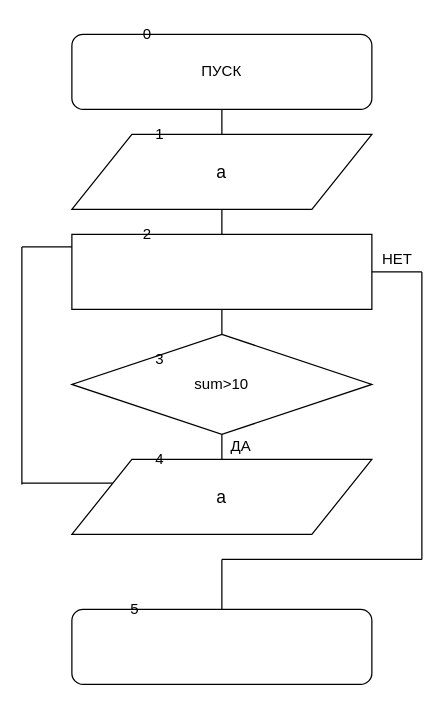
Some shapes in this 445 by 706 pixel diagram are drawn without their labels. Each missing label, with the box of its shape:
sum:=(a div 100)+(a mod 10)+(a div 10 mod 10): (71, 233, 372, 309)
ОСТАНОВ: (71, 608, 372, 684)
